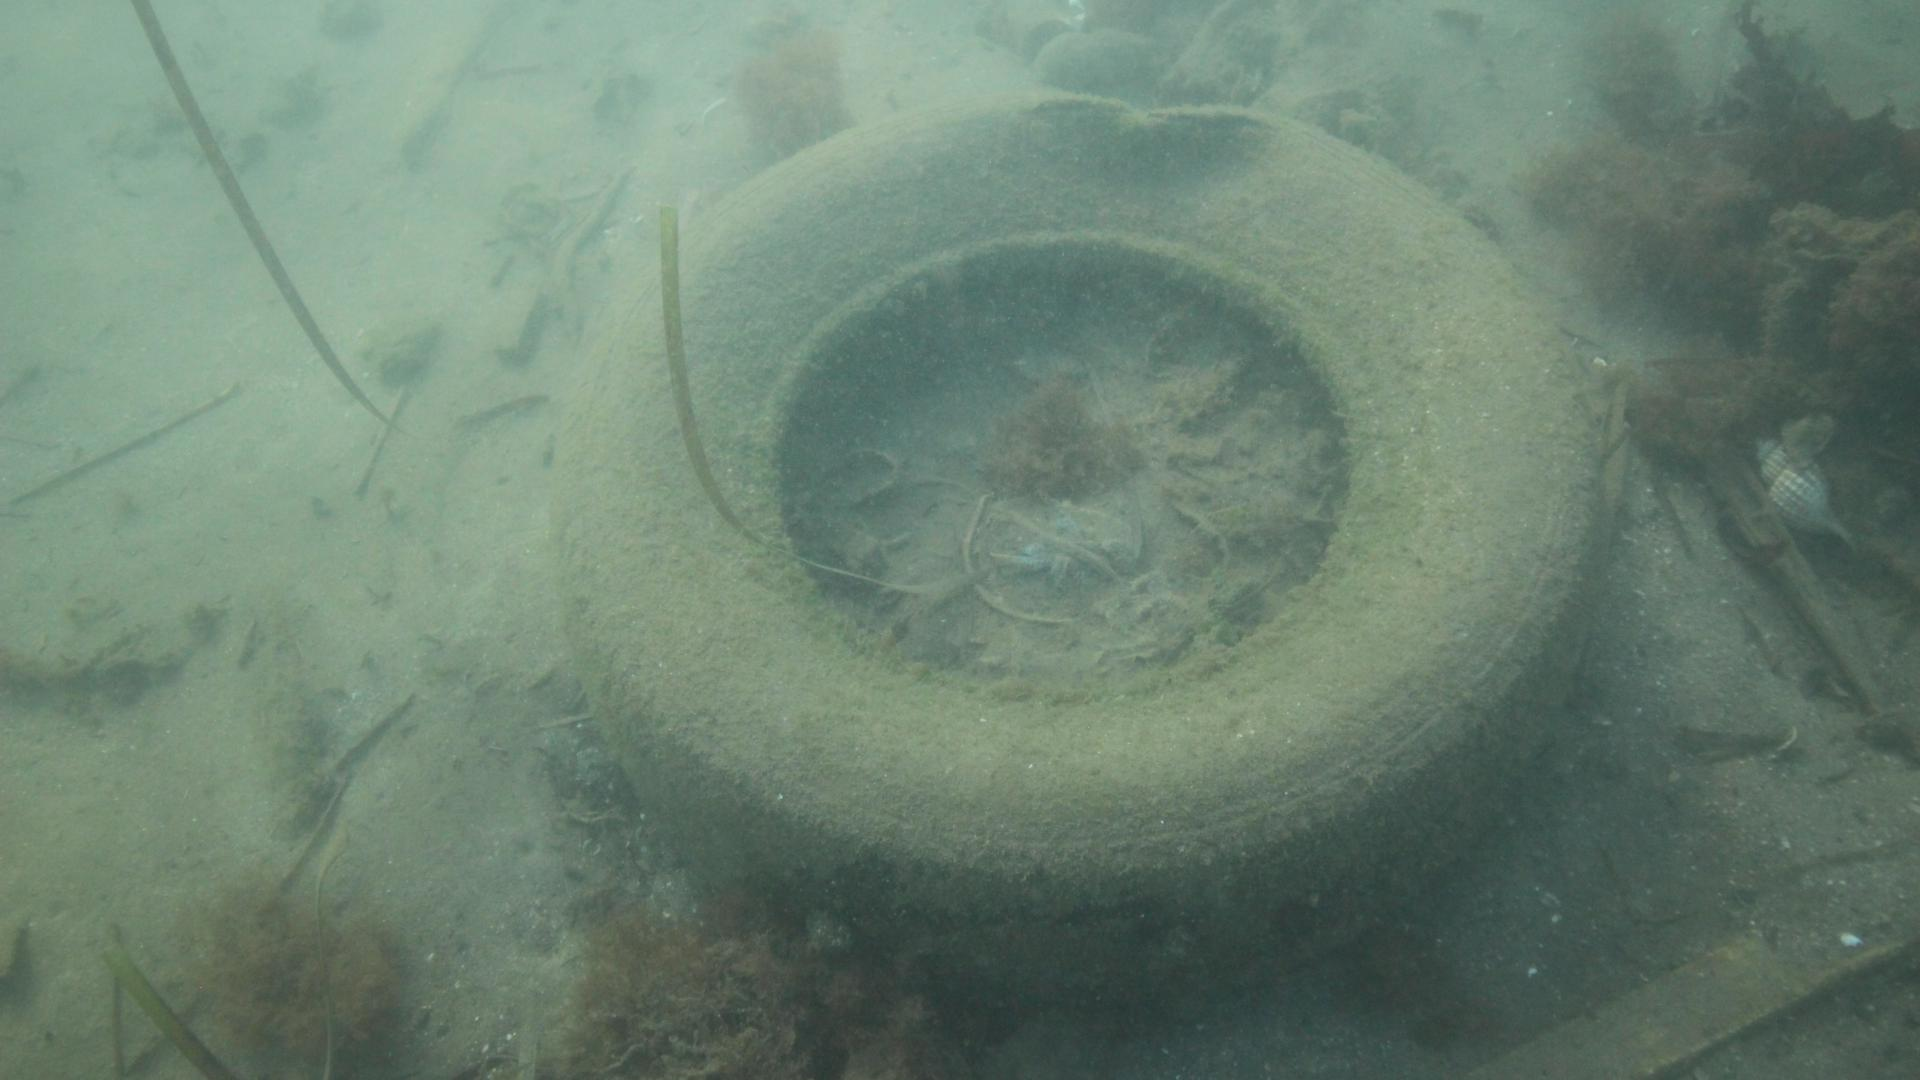tire: (547, 88, 1611, 990)
